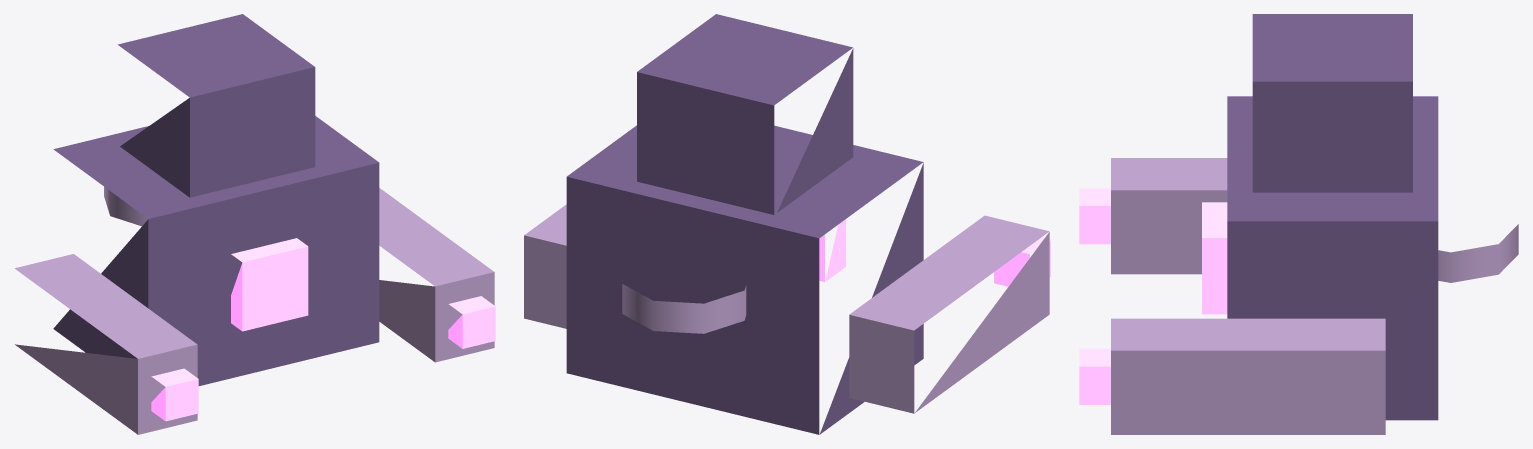
The model's file is golem_aether_04.glb.
3 renders of one model, left to right at view 1: azimuth 30°, elevation 25°; view 2: azimuth 150°, elevation 25°; view 3: azimuth 270°, elevation 25°, orthographic. The views are drawn at different scales.
Visible parts, largest first — view 1: AetherObsidian, AetherRunic, AetherGlow; view 2: AetherObsidian, AetherRunic, AetherGlow; view 3: AetherObsidian, AetherRunic, AetherGlow.
Boxes of the visible parts, left/top/right/bottom form: AetherObsidian: left=53, top=14, right=379, bottom=385; AetherRunic: left=15, top=186, right=494, bottom=434; AetherGlow: left=151, top=238, right=495, bottom=421; AetherObsidian: left=566, top=14, right=923, bottom=434; AetherRunic: left=524, top=204, right=1049, bottom=413; AetherGlow: left=819, top=219, right=1050, bottom=286; AetherObsidian: left=1227, top=14, right=1438, bottom=420; AetherRunic: left=1111, top=158, right=1518, bottom=434; AetherGlow: left=1079, top=188, right=1227, bottom=404.
Bounding box in the file's own units: 1.08 × 0.81 × 1.04.
